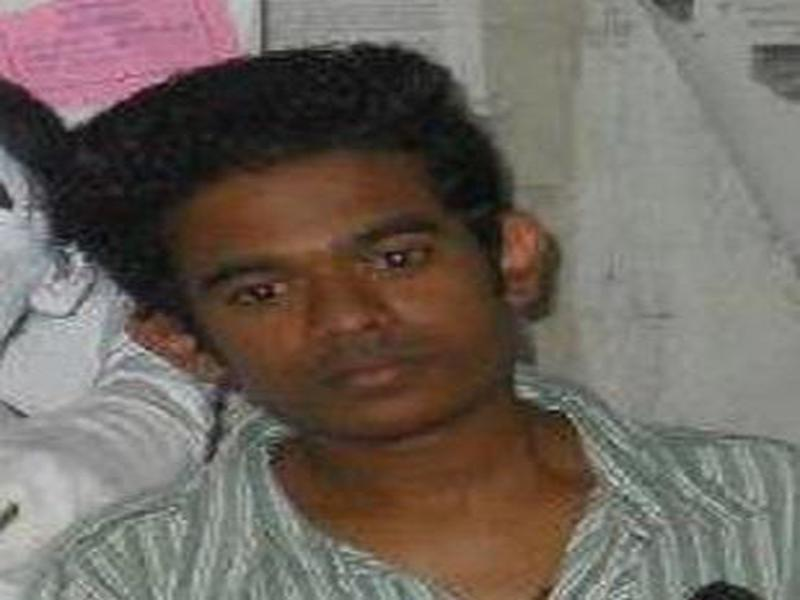without_mask: (160, 182, 507, 442)
